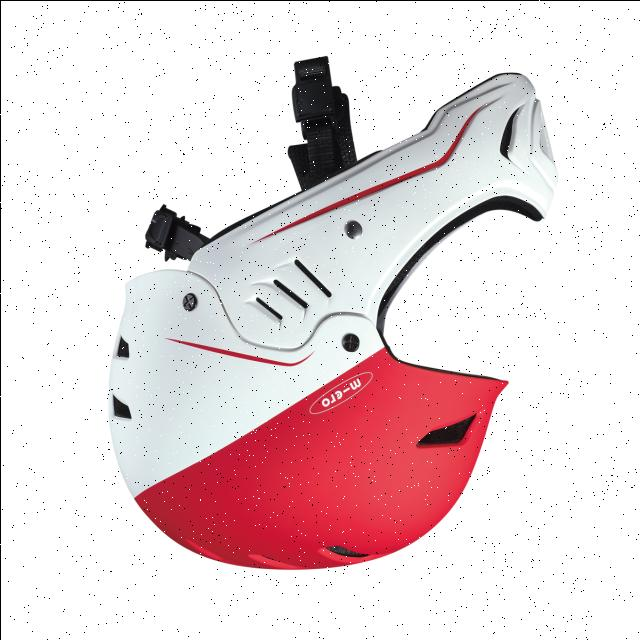Helmet: (108, 58, 556, 569), (200, 348, 505, 568)
